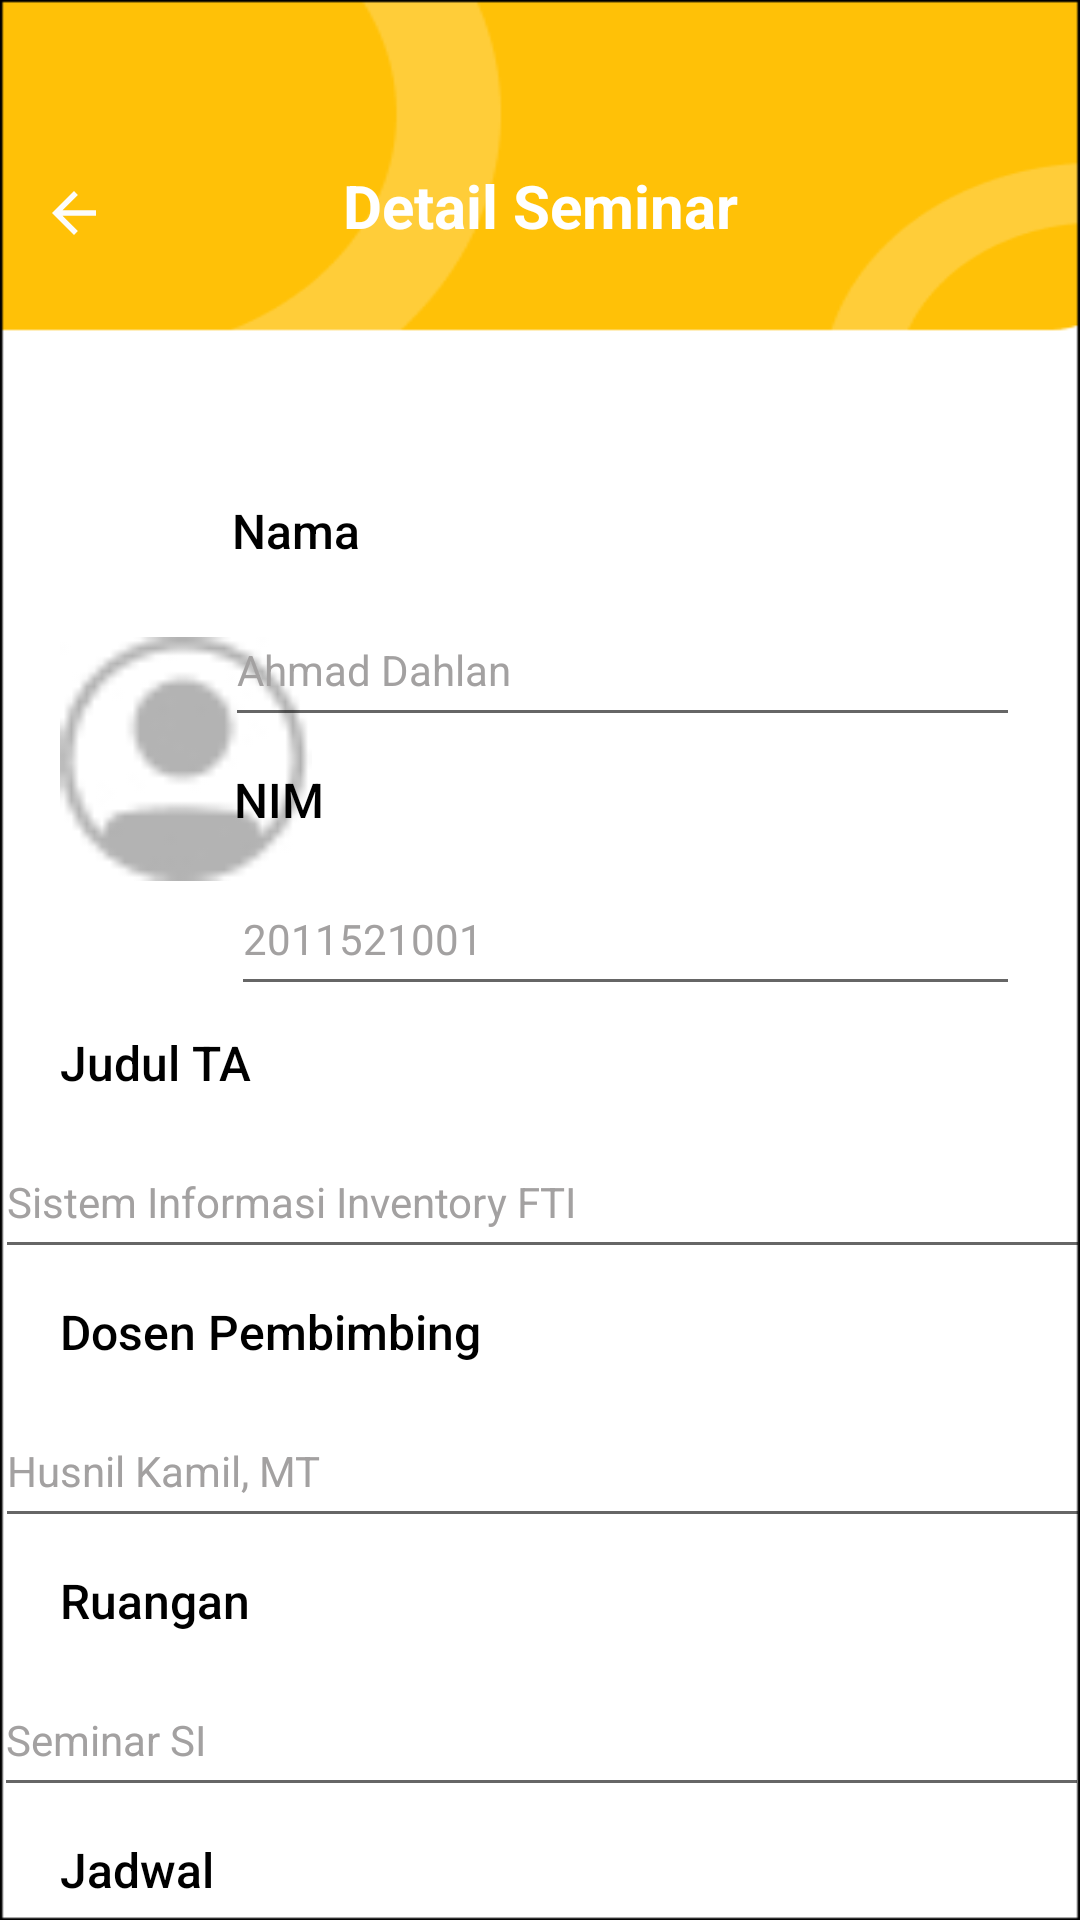

Locate icon controls on the screen. Image size 1080px×1920px, boxes as (x1, y1, x2, y2).
arrow left: (52, 191, 96, 235)
